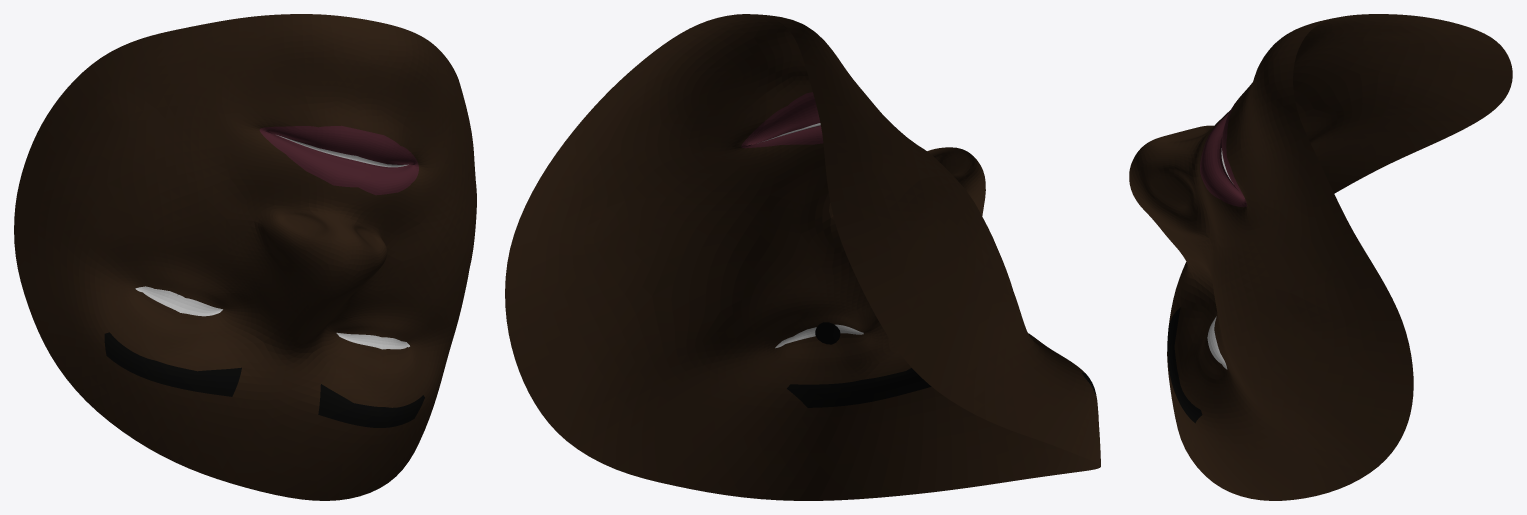
The model's file is frame_00277.obj.
3 views of the same model, side by side, from view 1: azimuth 30°, elevation 25°; view 2: azimuth 150°, elevation 25°; view 3: azimuth 270°, elevation 25° (orthographic). The views are drawn at different scales.
Visible parts, largest first — view 1: face_mesh_subdivided; view 2: face_mesh_subdivided; view 3: face_mesh_subdivided.
Part boxes in pixels (left/top/right/bottom): face_mesh_subdivided: left=14, top=14, right=476, bottom=500; face_mesh_subdivided: left=505, top=14, right=1100, bottom=500; face_mesh_subdivided: left=1129, top=14, right=1512, bottom=500.
Bounding box in the file's own units: 0.5567 × 0.5285 × 0.4119.
